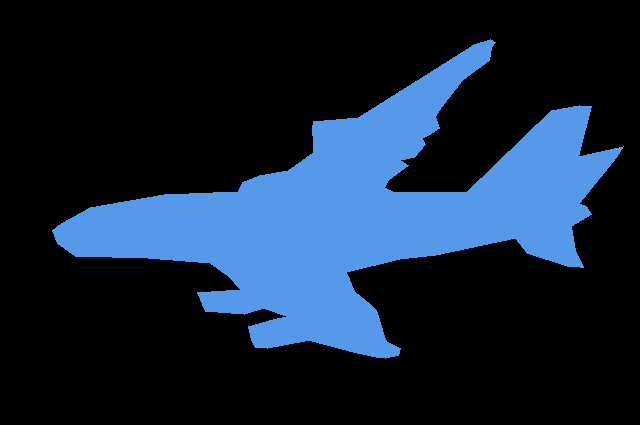Airplane: (52, 39, 623, 359)
